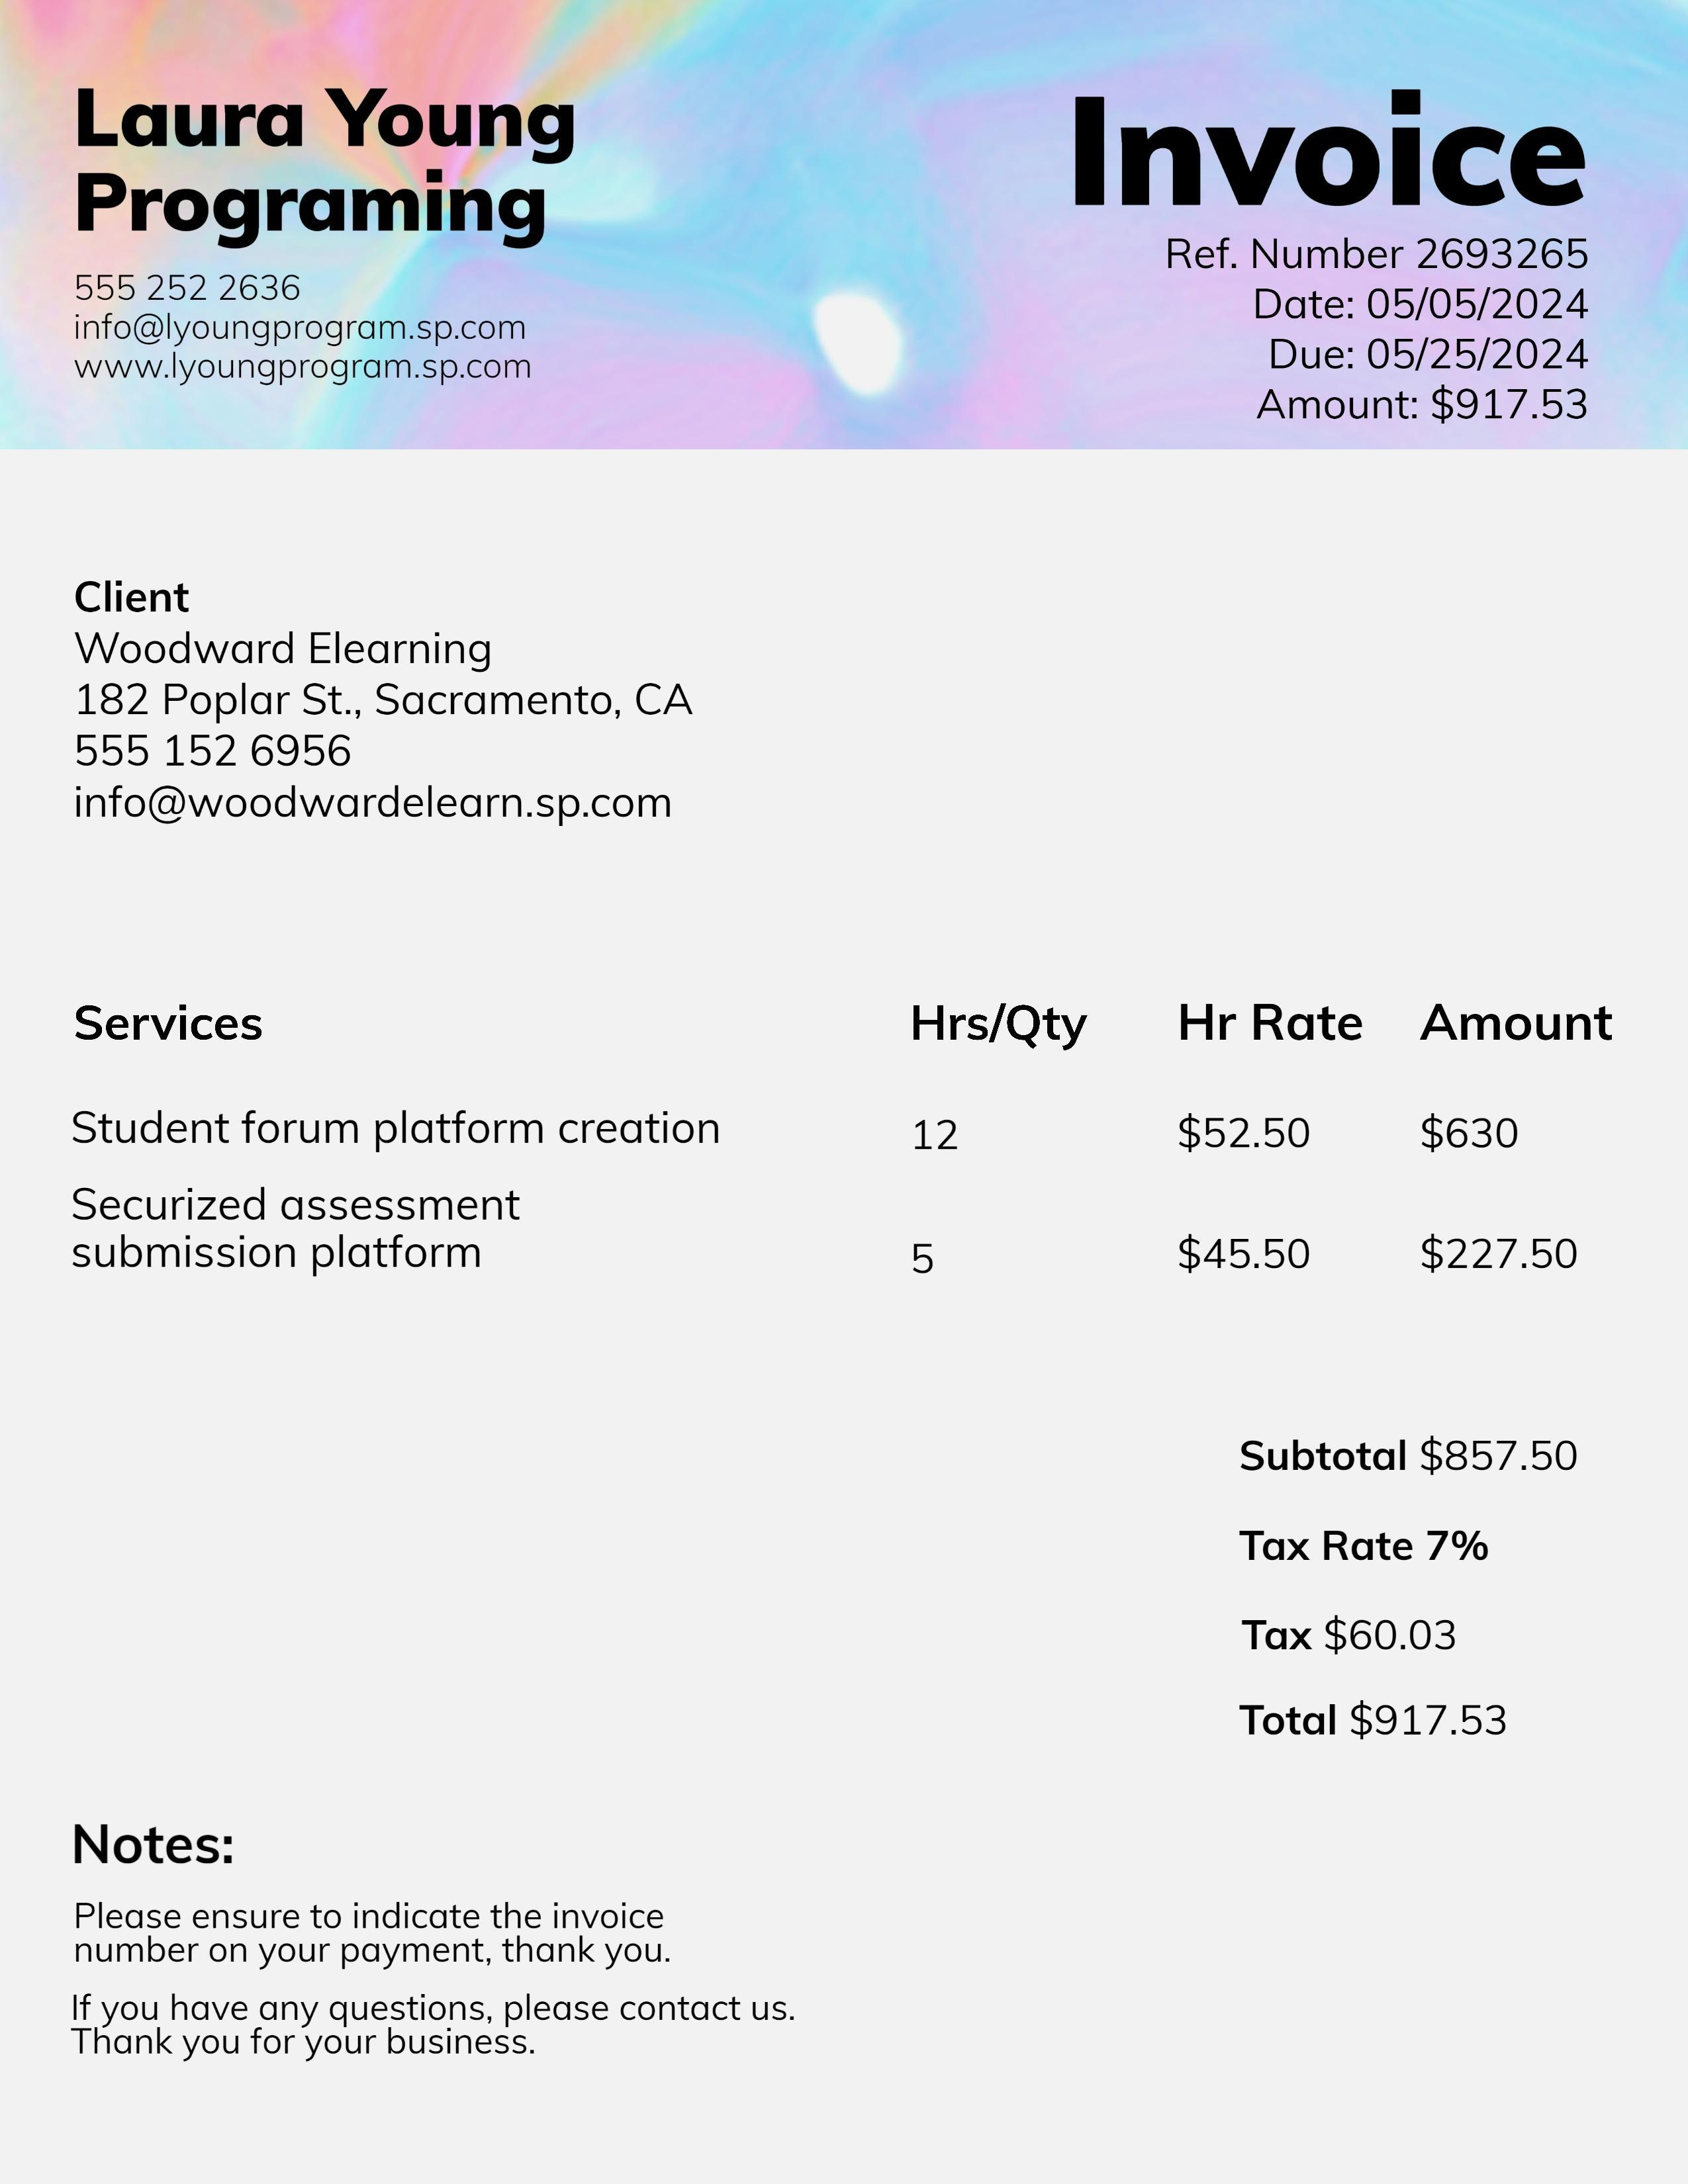ROI: (56, 994, 1633, 1295), (64, 75, 676, 412), (50, 567, 741, 833), (1223, 1424, 1597, 1759), (62, 1809, 718, 1974), (1145, 220, 1634, 439)
